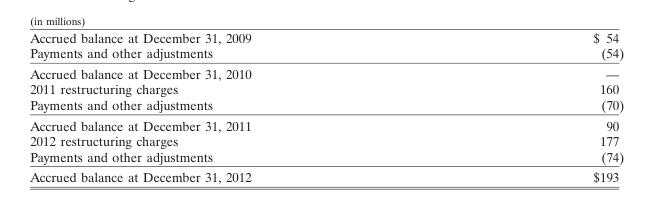table: (29, 29, 623, 184)
table column: (29, 29, 421, 184), (421, 29, 623, 184)
table row: (29, 44, 623, 63), (29, 63, 623, 81), (29, 96, 623, 114), (29, 114, 623, 132), (29, 148, 623, 166), (29, 166, 623, 184), (29, 132, 623, 148), (29, 29, 623, 44), (29, 81, 623, 96)
